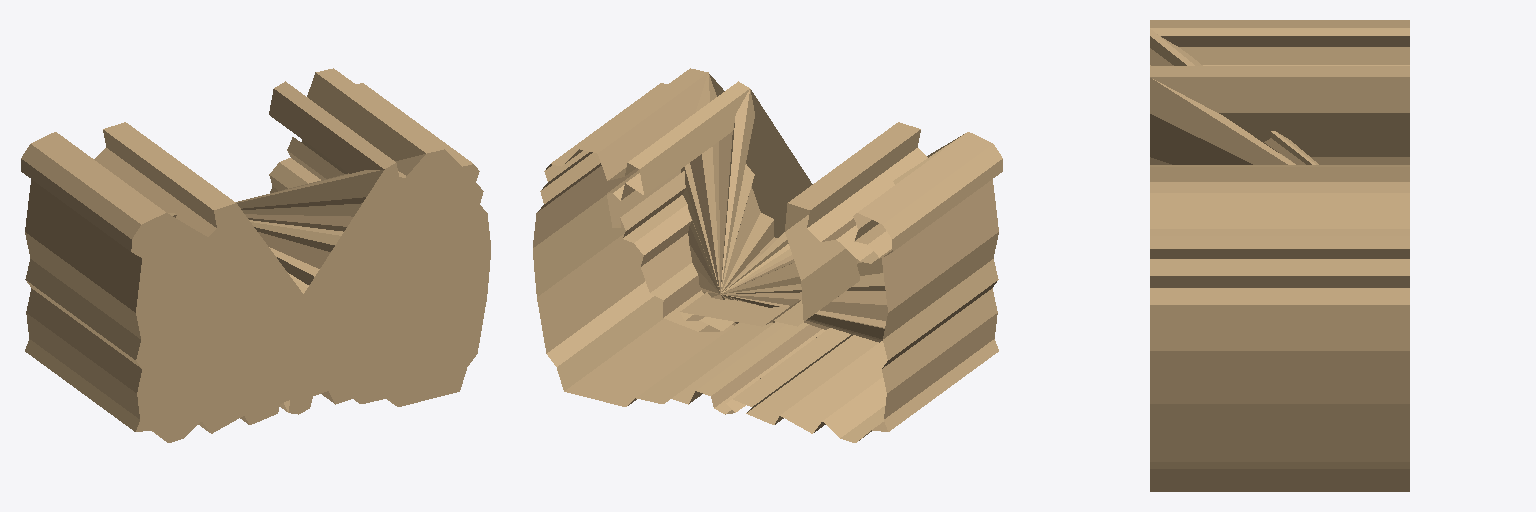
robot.urdf — bread:
<?xml version="1.0"?>
<robot name="bread">
  <link name="base_link">
    <inertial>
      <origin xyz="0 0 0" rpy="0 0 0"/>
      <mass value="0.240000"/>
      <inertia ixx="0.00032800" ixy="0.0" ixz="0.0" iyy="0.00065000" iyz="0.0" izz="0.00057800"/>
    </inertial>

    <visual>
      <origin xyz="0 0 0" rpy="0 0 0"/>
      <geometry>
        <mesh filename="bread_v41.obj" scale="1.0 1.0 1.0"/>
      </geometry>
      <material name="bread_mat">
        <color rgba="0.82 0.71 0.55 1.0"/>
      </material>
    </visual>

    <collision>
      <origin xyz="0 0 0" rpy="0 0 0"/>
      <geometry>
        <mesh filename="bread_v41_collision.obj" scale="1.0 1.0 1.0"/>
      </geometry>
    </collision>
  </link>
</robot>

--- Facts derived from the render (not from the file) ---
The picture shows the robot from 3 angles, left to right: view 1: azimuth 30°, elevation 25°; view 2: azimuth 150°, elevation 25°; view 3: azimuth 270°, elevation 25°; orthographic projection.
Robot: bread — 1 links, 0 joints (none); root link base_link; default pose: all joints at 0.
Visible links, largest first — view 1: base_link; view 2: base_link; view 3: base_link.
Boxes of the visible links, x1,y1,x2,y2 form: base_link: (21, 68, 490, 442); base_link: (533, 68, 1002, 442); base_link: (1150, 20, 1409, 491).
Bounding box of the posed robot: 0.15 × 0.08 × 0.1 m (x, y, z).
Meshes: 1 distinct files referenced, 1 mesh visuals loaded (1 OBJ).
